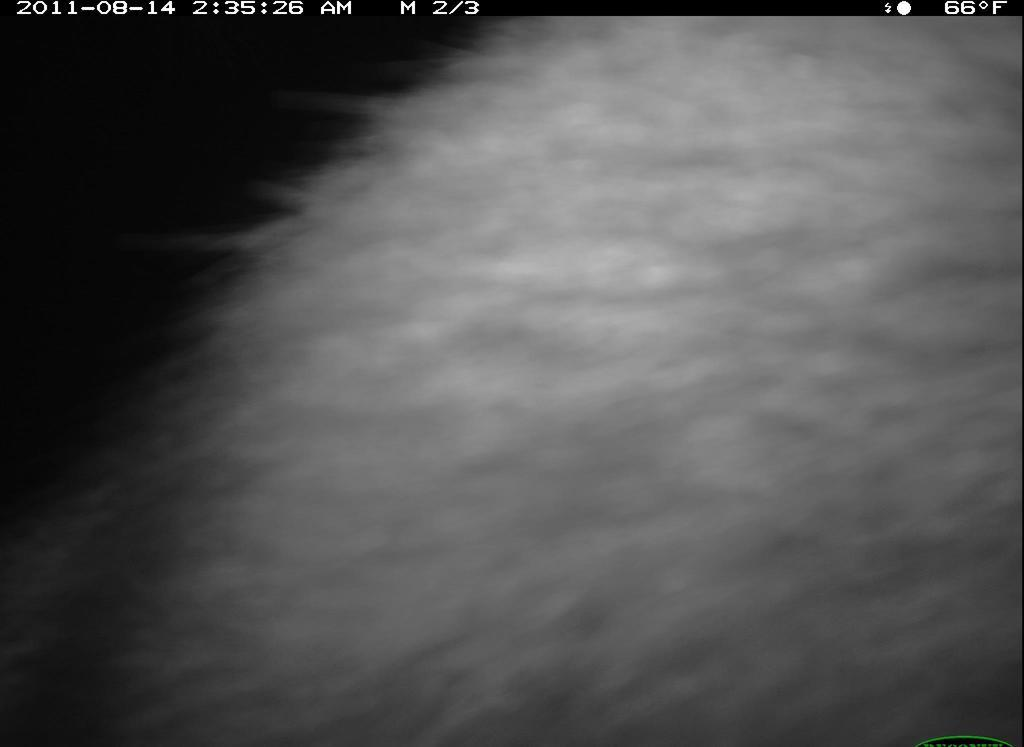raccoon: (77, 29, 1023, 747)
